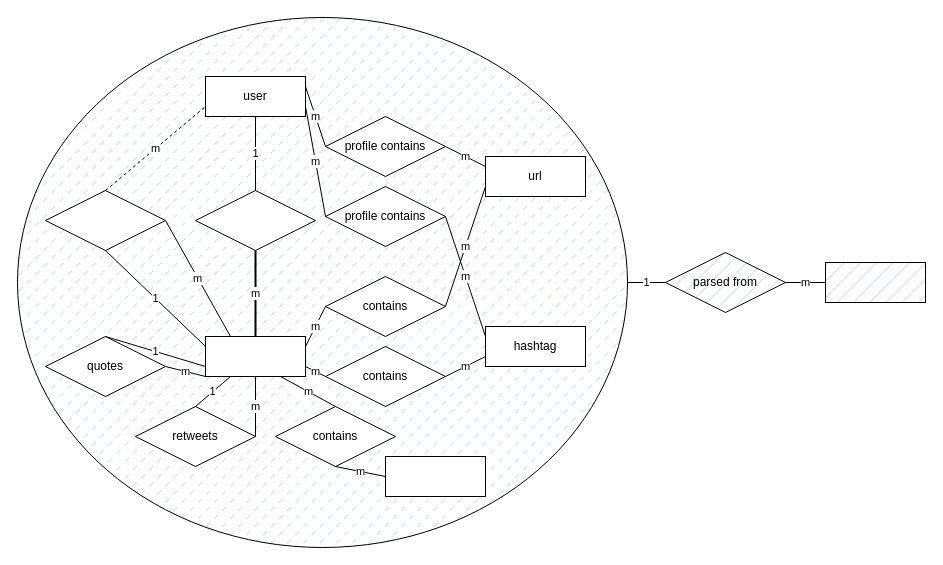
This 943x565 diagram has some shape labels left out. Here are the shapes that lost their labels. From the top down, the centre of each, then its label:
At pixel 105 220: "replies to".
At pixel 255 220: "authors".
At pixel 875 282: "query result".
At pixel 255 356: "tweet".
At pixel 435 476: "media".
